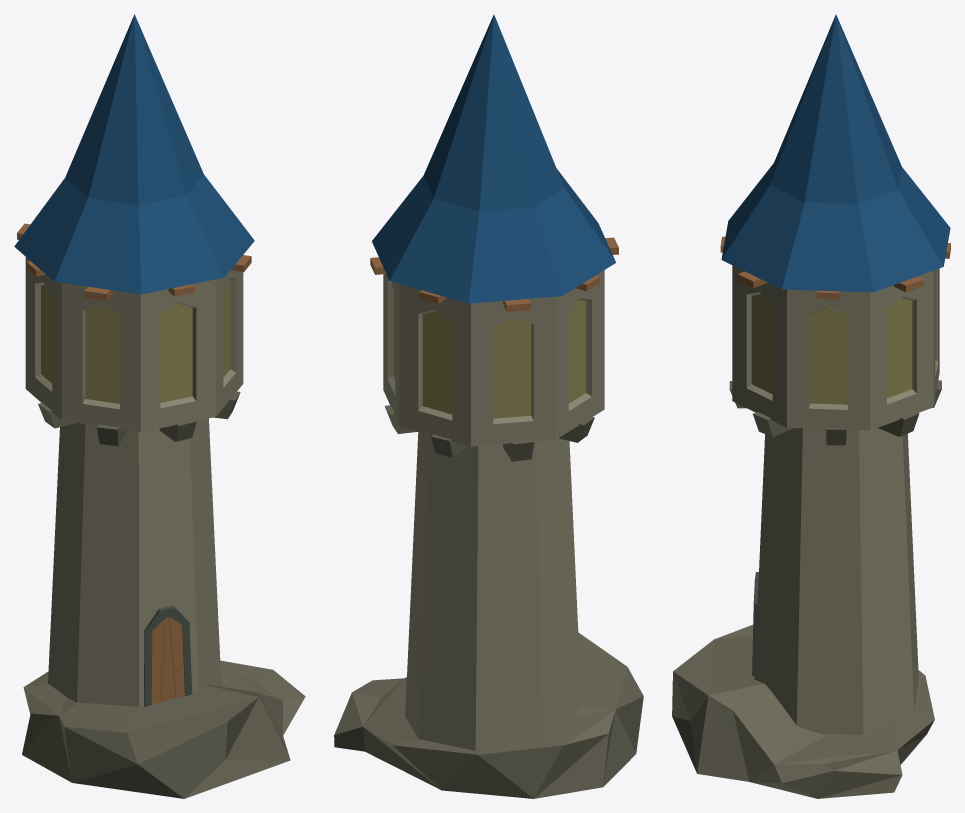
The model's file is WizardTower_mat.fbx.
3 views of the same model, side by side, from view 1: azimuth 30°, elevation 25°; view 2: azimuth 150°, elevation 25°; view 3: azimuth 270°, elevation 25° (orthographic). The views are drawn at different scales.
Visible parts, largest first — view 1: WizardTower_mat; view 2: WizardTower_mat; view 3: WizardTower_mat.
Part boxes in pixels (x1,y1,x2,y2): WizardTower_mat: (14,14,305,798); WizardTower_mat: (334,14,643,798); WizardTower_mat: (672,14,950,798).
Bounding box in the file's own units: 2.46 × 6.68 × 2.35.
